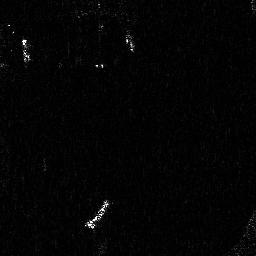ship: (86, 199, 109, 229)
